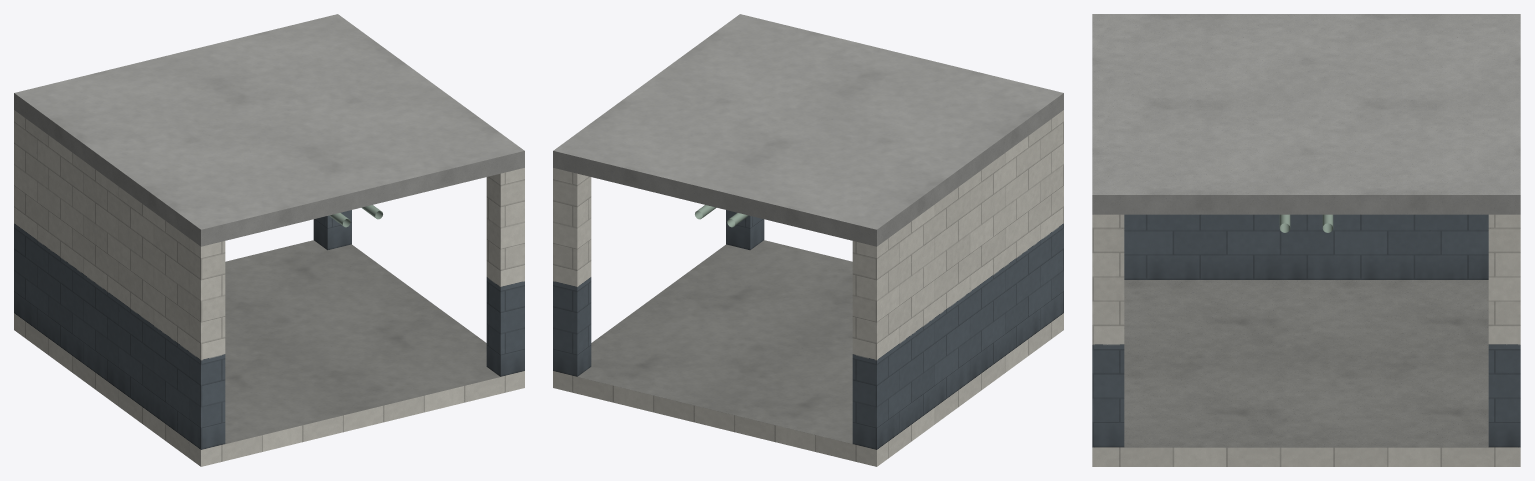
Rendered from Corridor_Basement_T_NoLight.glb.
3 views of the same model, side by side, from view 1: azimuth 30°, elevation 25°; view 2: azimuth 150°, elevation 25°; view 3: azimuth 270°, elevation 25° (orthographic). The views are drawn at different scales.
Parts seen in each view (by area): view 1: Corridor_Basement_T_NoLight, Corridor_Basement_T_NoLight_Ceiling; view 2: Corridor_Basement_T_NoLight, Corridor_Basement_T_NoLight_Ceiling; view 3: Corridor_Basement_T_NoLight, Corridor_Basement_T_NoLight_Ceiling.
Part boxes in pixels (x1,y1,x2,y2): Corridor_Basement_T_NoLight: (14, 110, 524, 466); Corridor_Basement_T_NoLight_Ceiling: (14, 14, 524, 246); Corridor_Basement_T_NoLight: (553, 110, 1063, 466); Corridor_Basement_T_NoLight_Ceiling: (553, 14, 1063, 246); Corridor_Basement_T_NoLight: (1092, 214, 1520, 466); Corridor_Basement_T_NoLight_Ceiling: (1092, 14, 1520, 232).
Bounding box in the file's own units: 4 × 2.8 × 4.
Materials: 5 (3 with a texture image).
